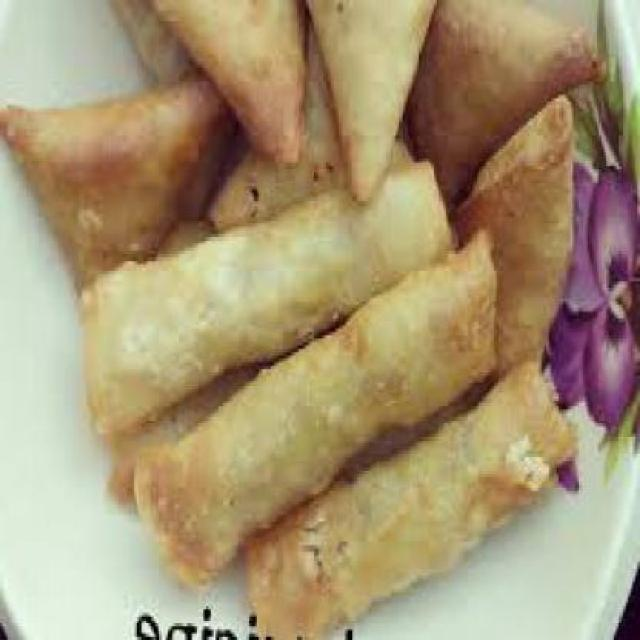spring rolls: (84, 162, 484, 613)
